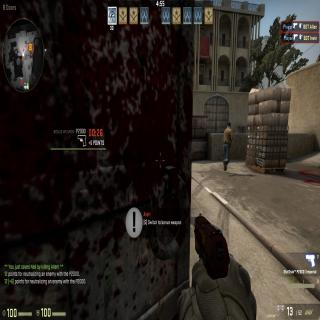T-Body: (221, 121, 233, 170)
T-Head: (227, 120, 231, 130)
